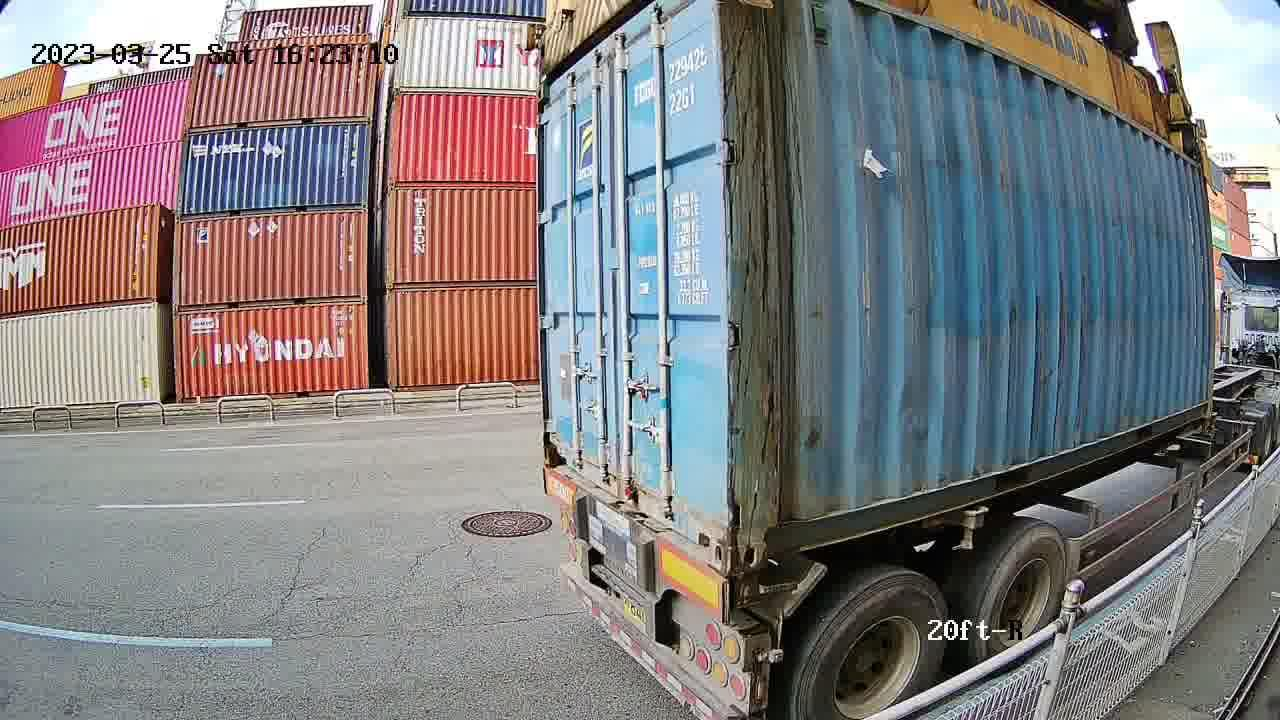Chassis: (544, 470, 756, 615)
Cone: (729, 573, 762, 610)
Hole_L: (727, 501, 796, 575), (543, 427, 574, 473)
Hole_R: (685, 490, 729, 572)
Tire: (794, 573, 949, 715), (979, 524, 1068, 668)
